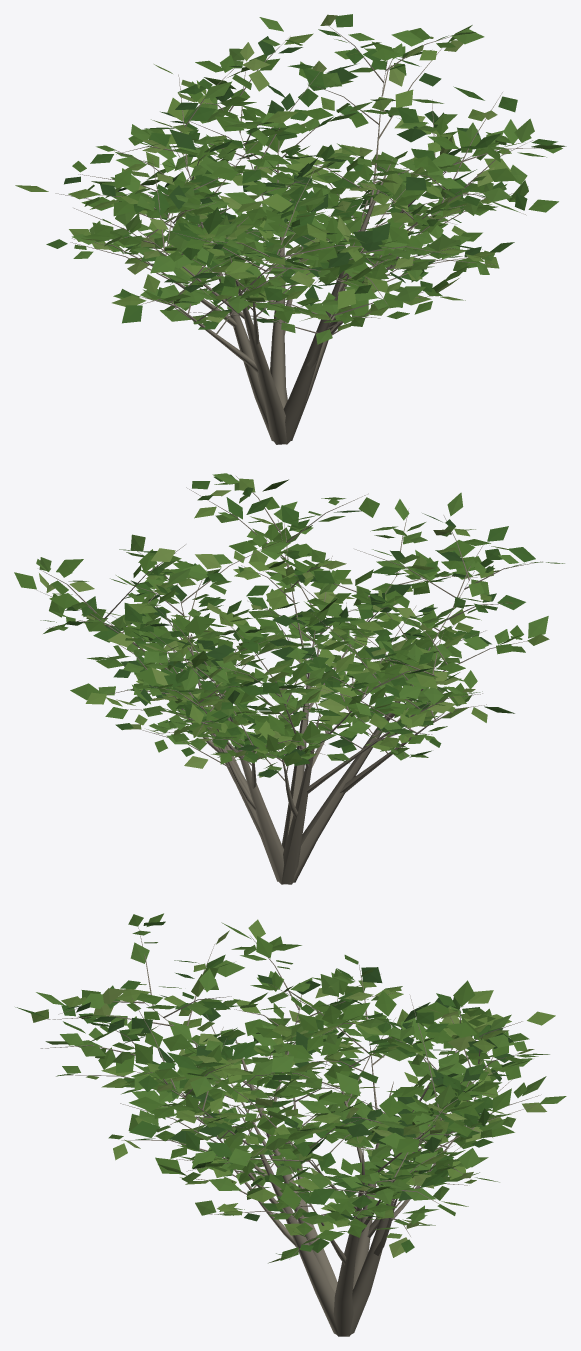
Rendered from shrub_04.glb.
The picture shows the model from 3 angles, top to bottom: view 1: azimuth 30°, elevation 25°; view 2: azimuth 150°, elevation 25°; view 3: azimuth 270°, elevation 25°; orthographic projection. The views are drawn at different scales.
Visible parts, largest first — view 1: Shrub_04_foliage, Shrub_04_stems; view 2: Shrub_04_foliage, Shrub_04_stems; view 3: Shrub_04_foliage, Shrub_04_stems.
Part boxes in pixels (x1,y1,x2,y2): Shrub_04_foliage: [15, 14, 566, 344]; Shrub_04_stems: [55, 23, 538, 444]; Shrub_04_foliage: [14, 473, 564, 777]; Shrub_04_stems: [37, 476, 542, 884]; Shrub_04_foliage: [15, 913, 566, 1263]; Shrub_04_stems: [40, 926, 541, 1336].
Bounding box in the file's own units: 1.78 × 1.31 × 1.74.
